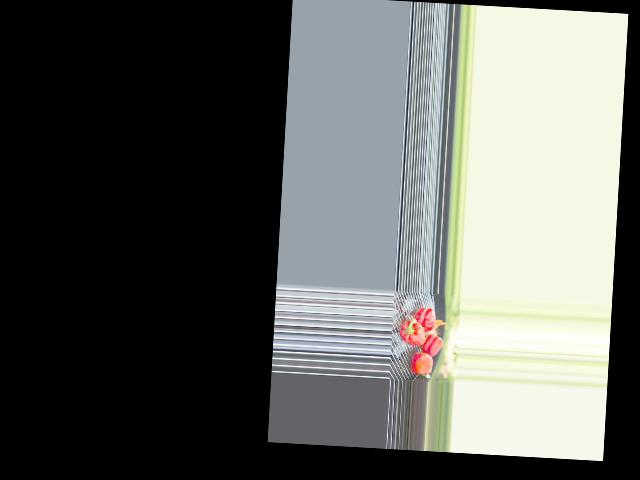bell_pepper: (414, 306, 437, 332)
